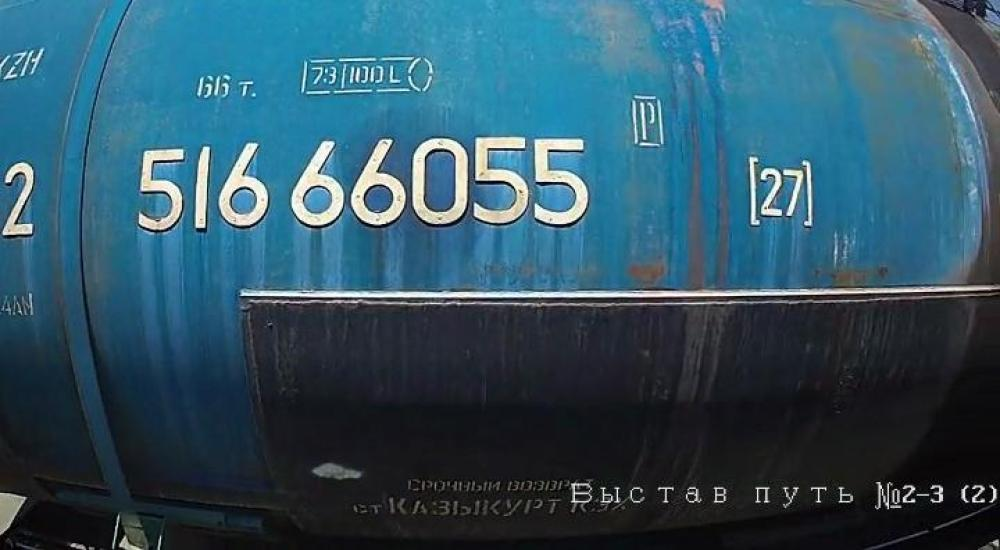Wagon-number: (121, 129, 597, 241)
